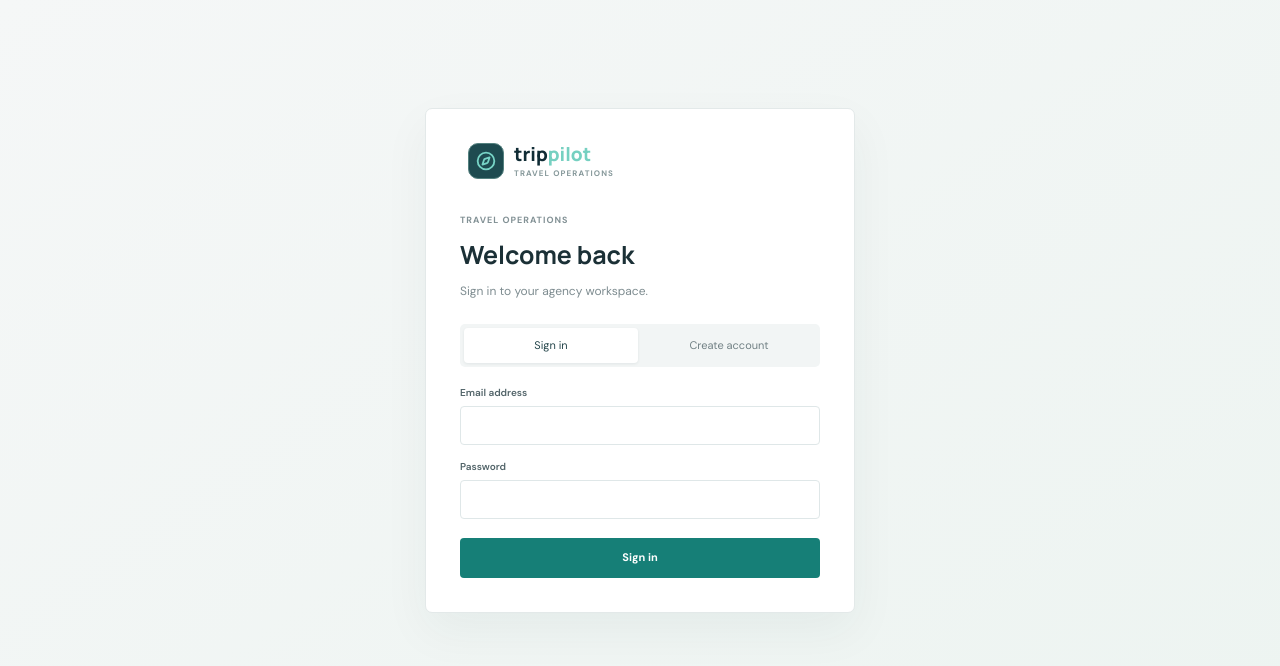
Scenario: authenticated dashboard › signs in, selects the authorized workspace, and renders API-backed data
This screenshot has width=1280, height=666.
Expected: the heading "Welcome back" is shown, [460, 237, 634, 272]
Type "alex@example.com" into the field labelled "Email address".
click(640, 425); type("alex@example.com")  # box [460, 406, 820, 444]
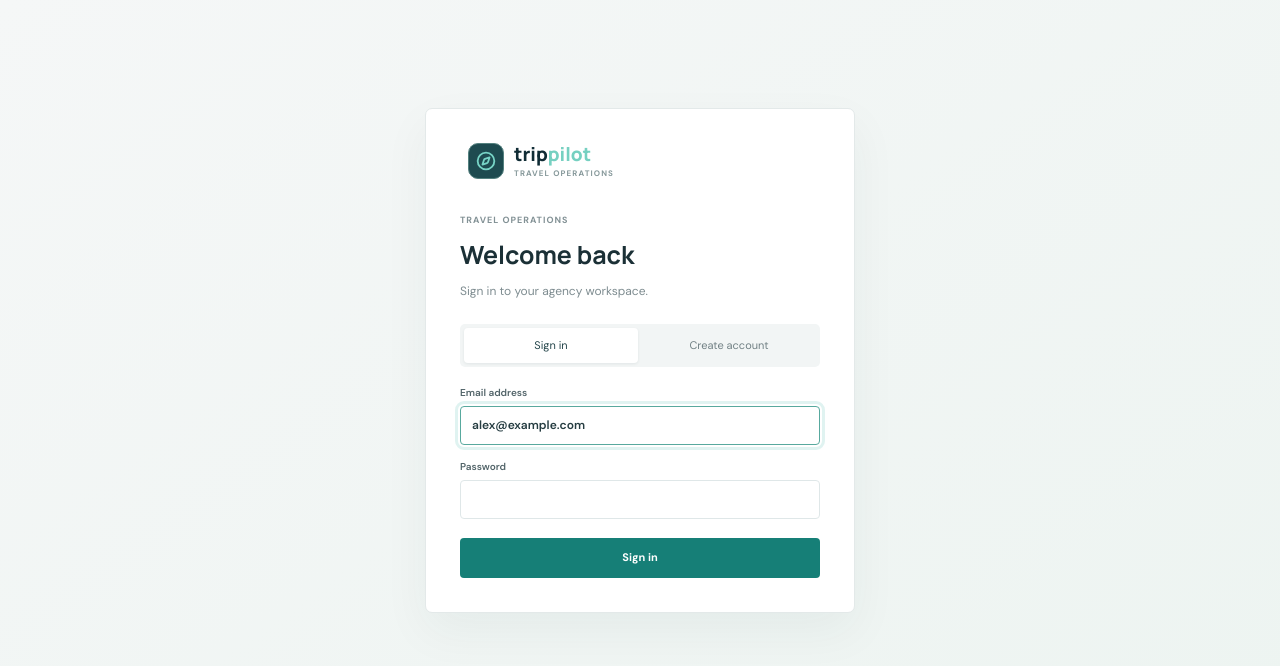
Type "correct-password" into the password field labelled "Password".
click(640, 499); type("correct-password")  # box [460, 480, 820, 518]
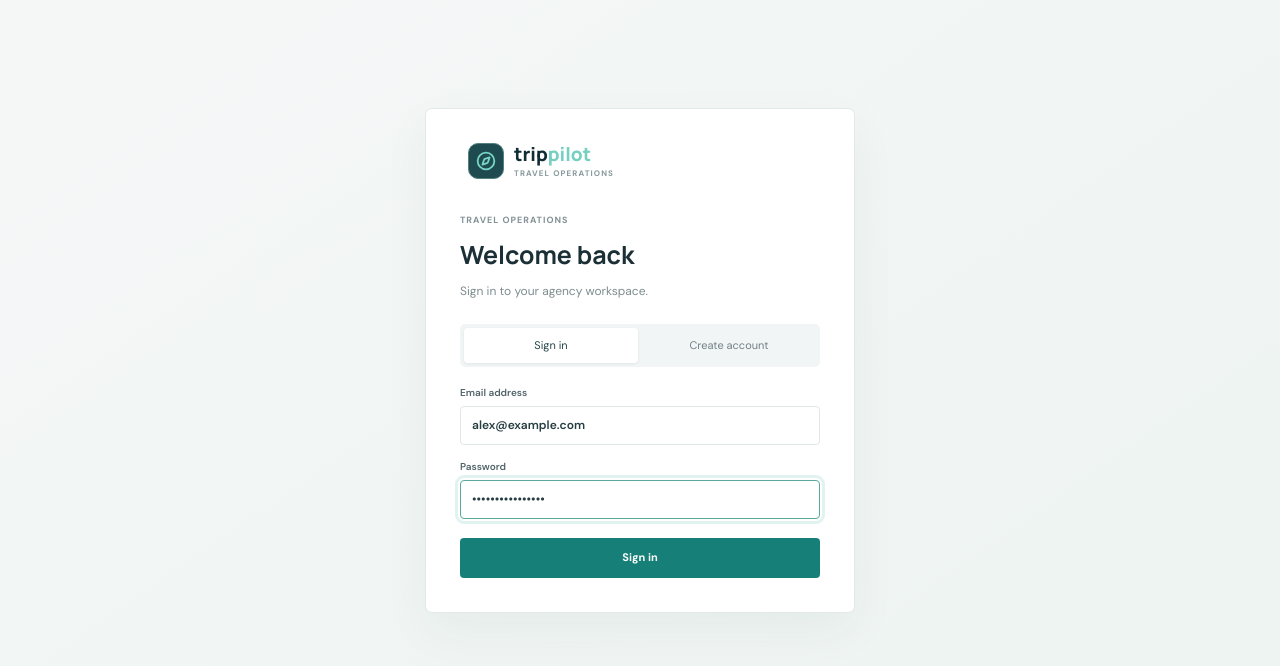
Click the button "Sign in".
click(640, 558)  # box [460, 538, 820, 578]
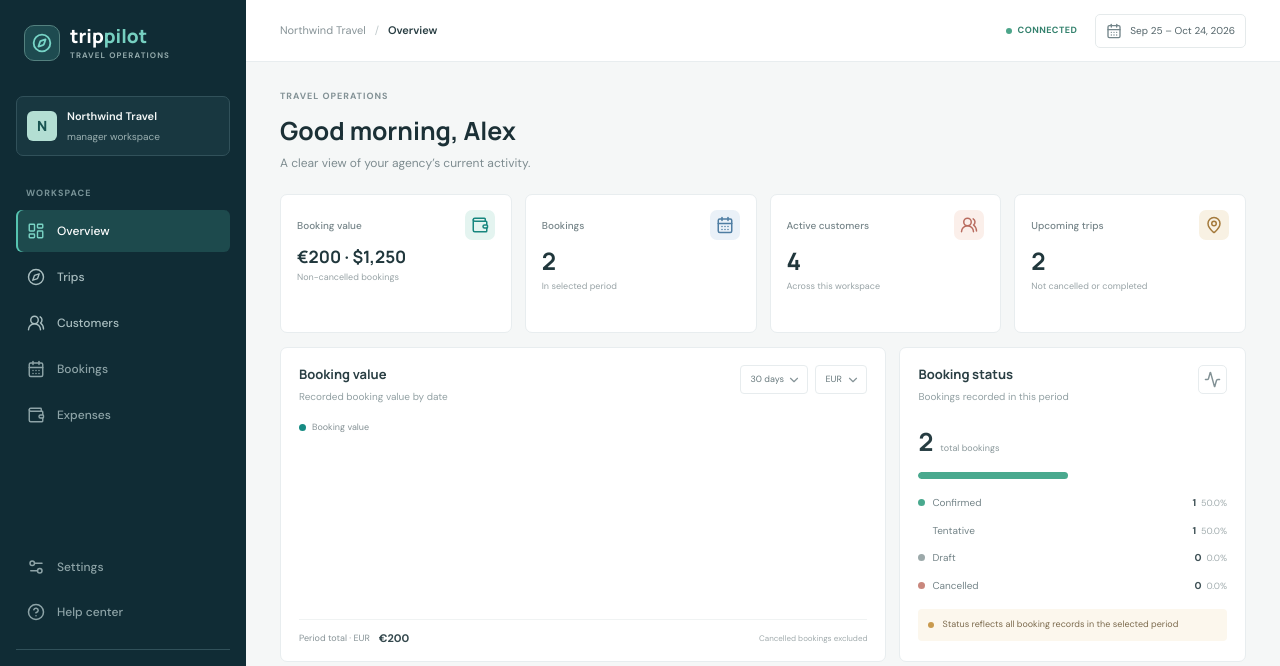
Result: the heading "Booking value" is shown at [299, 365, 386, 384]
Result: the text "4" is shown at [786, 244, 801, 277]
Select "USD" in the dropdown named "Chart currency" at (842, 380), box [816, 365, 868, 394]
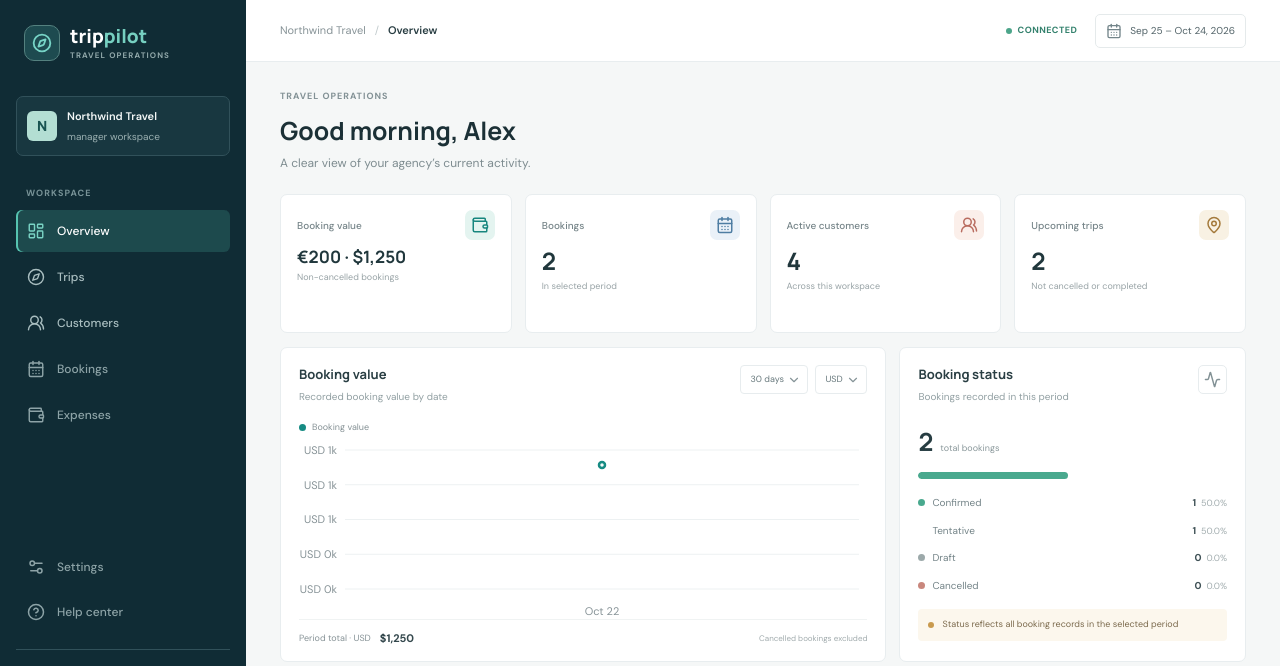
Result: the text "$1,250" is shown at [380, 630, 414, 646]
